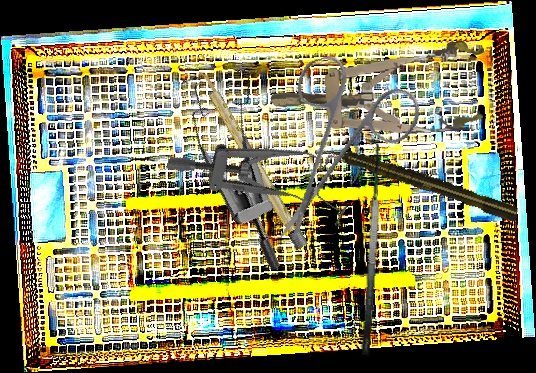Handpiece: (318, 138, 521, 225)
Iris Scissors: (230, 34, 448, 244)
Scalpel Handle: (195, 68, 309, 251)
Spatula Surgical: (342, 138, 390, 356)
Speculum: (150, 47, 352, 272), (164, 95, 364, 243), (268, 39, 490, 144)
